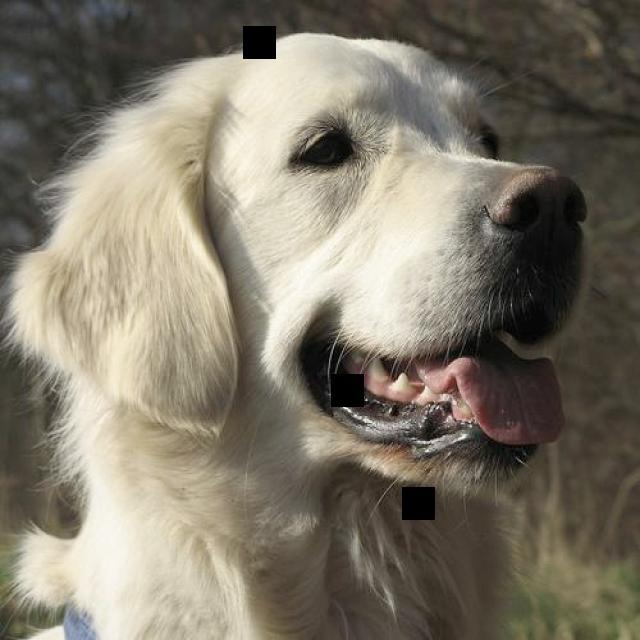adult_dog: (5, 23, 599, 640)
